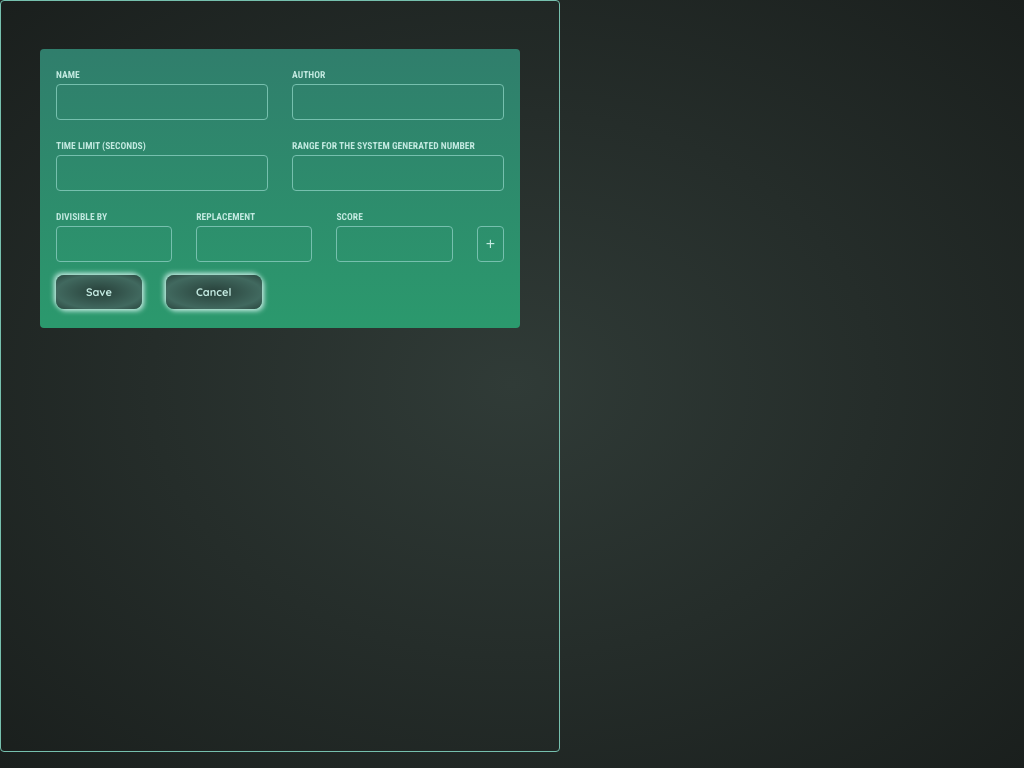
CreateGame Component › displays error when required fields are missing
Step 1. Click the text "Save" → (99, 292), box [56,275,142,309]
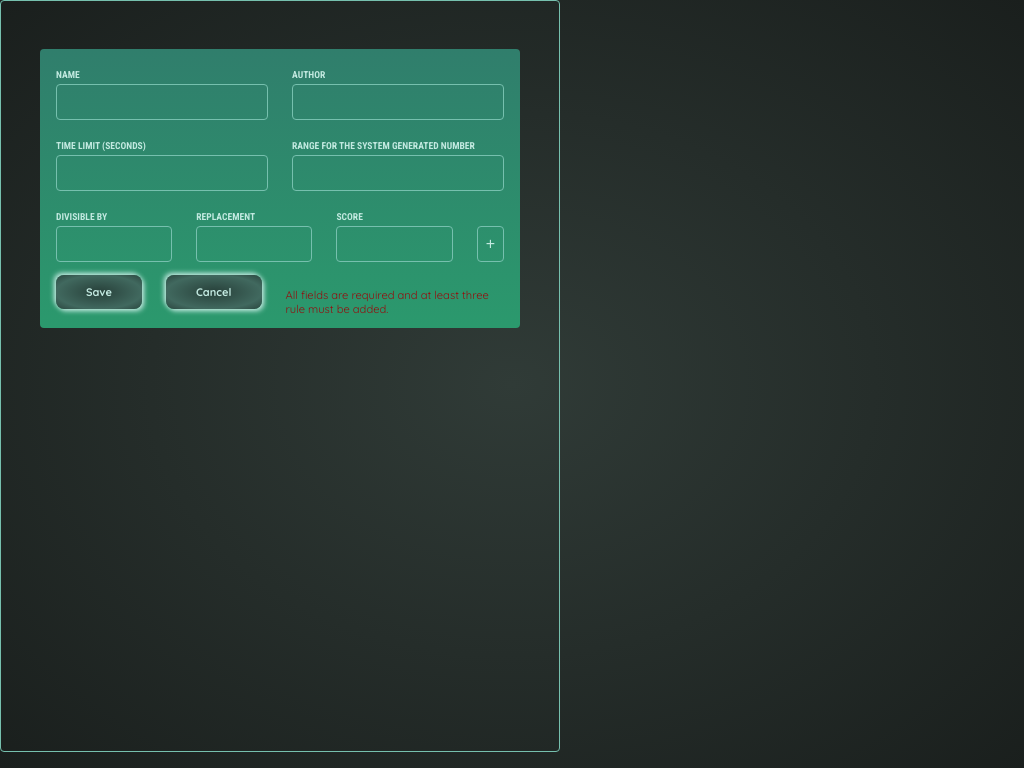
Check: the text "All fields are required and at least three rule must be added." is shown, box [286,288,504,312]
